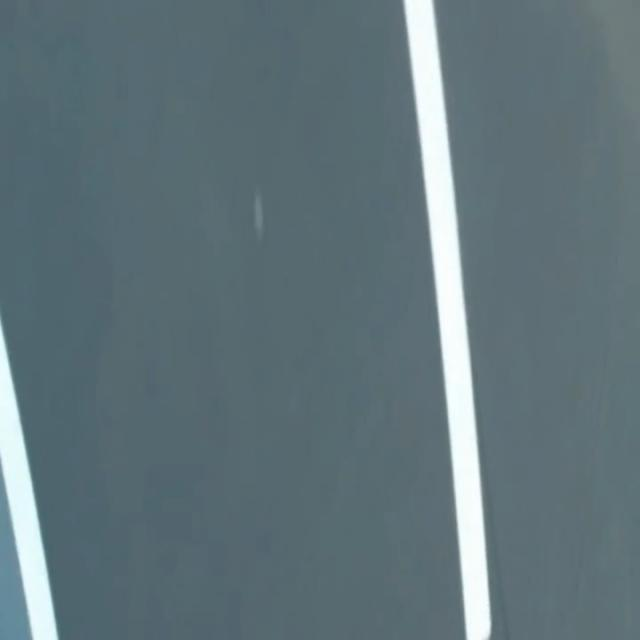center: (403, 0, 490, 639)
left: (0, 318, 58, 639)
